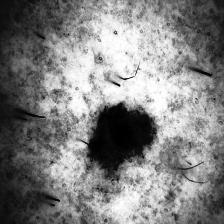Benign Marking or Mole: (93, 107, 154, 161)
